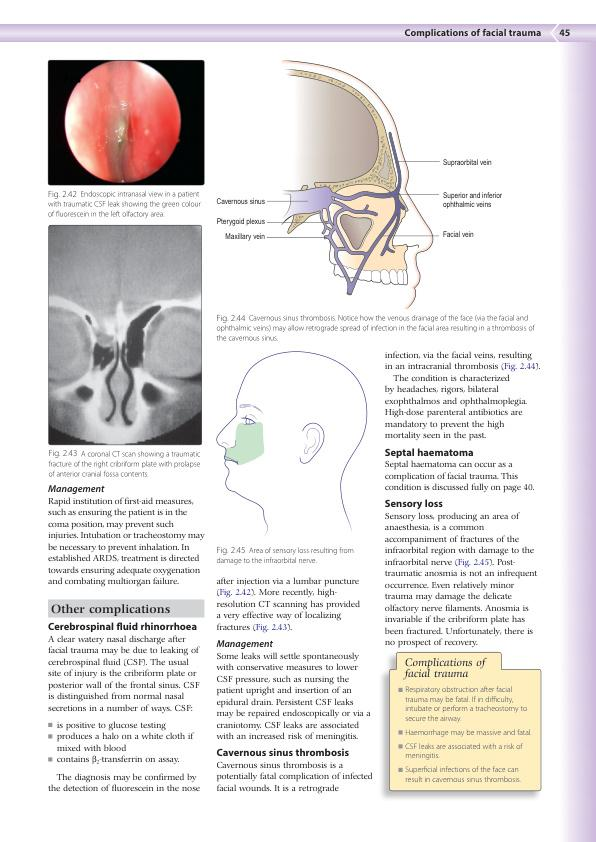caption: (215, 313, 537, 343), (47, 189, 202, 219), (47, 449, 201, 479), (215, 546, 355, 567), (402, 656, 488, 680)
header: (404, 28, 542, 40)
image: (210, 57, 507, 312), (47, 224, 203, 446), (213, 345, 373, 543), (47, 59, 206, 187)
list: (397, 684, 533, 784), (46, 720, 195, 765)
section-heading: (50, 602, 171, 618)
sub-section-heading: (46, 621, 199, 633), (216, 747, 350, 757), (384, 447, 475, 459), (384, 499, 444, 510), (215, 639, 274, 650), (47, 484, 105, 495)
text: (384, 512, 538, 649), (383, 349, 542, 443), (47, 496, 206, 588), (215, 651, 371, 743), (47, 635, 202, 714), (216, 576, 361, 634), (216, 761, 373, 795), (384, 460, 535, 494), (46, 772, 203, 793)
